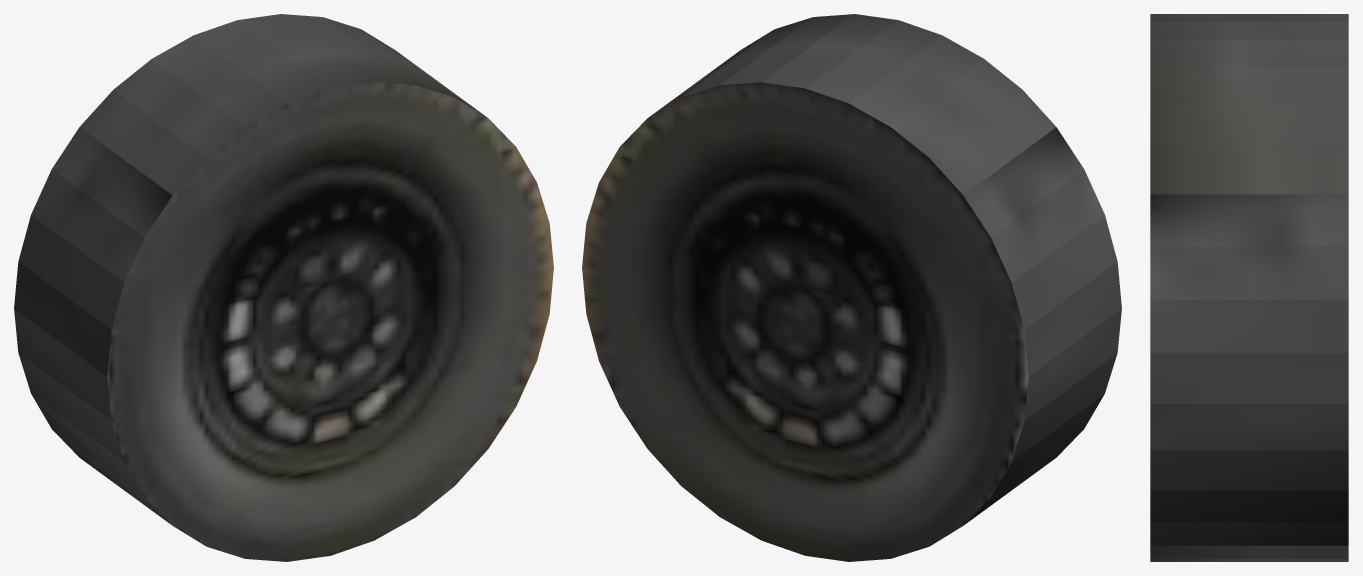
File: WHEEL_02_014.fbx
3 views of the same model, side by side, from view 1: azimuth 30°, elevation 25°; view 2: azimuth 150°, elevation 25°; view 3: azimuth 270°, elevation 25° (orthographic). The views are drawn at different scales.
Parts seen in each view (by area): view 1: WHEEL_02.014; view 2: WHEEL_02.014; view 3: WHEEL_02.014.
Part boxes in pixels (<box>): WHEEL_02.014: <box>14,14,553,561</box>; WHEEL_02.014: <box>582,14,1121,561</box>; WHEEL_02.014: <box>1150,14,1348,561</box>.
Size of the model in its own units: 126 by 126 by 45.59.
